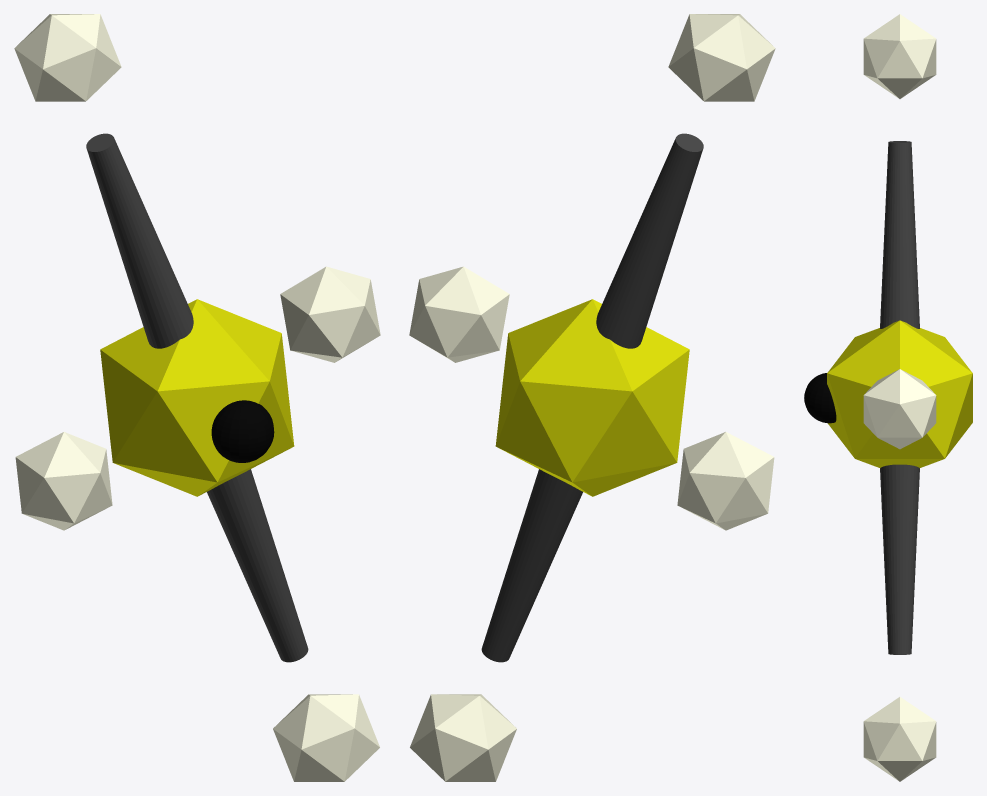
The picture shows the model from 3 angles, left to right: view 1: azimuth 30°, elevation 25°; view 2: azimuth 150°, elevation 25°; view 3: azimuth 270°, elevation 25°; orthographic projection. The views are drawn at different scales.
Visible parts, largest first — view 1: Icosphere, Cylinder, Icosphere.004, Icosphere.003, Icosphere.001, Icosphere.002, Sphere; view 2: Icosphere, Cylinder, Icosphere.004, Icosphere.003, Icosphere.001, Icosphere.002; view 3: Icosphere, Cylinder, Icosphere.001, Icosphere.002, Icosphere.003, Sphere.
Boxes of the visible parts, x1,y1,x2,y2 form: Icosphere: [100, 299, 294, 496]; Cylinder: [86, 133, 308, 662]; Icosphere.004: [15, 432, 112, 530]; Icosphere.003: [280, 266, 380, 362]; Icosphere.001: [14, 14, 121, 101]; Icosphere.002: [273, 694, 379, 781]; Sphere: [211, 400, 274, 462]; Icosphere: [495, 299, 689, 496]; Cylinder: [481, 133, 703, 662]; Icosphere.004: [677, 432, 774, 530]; Icosphere.003: [409, 266, 509, 362]; Icosphere.001: [668, 14, 775, 101]; Icosphere.002: [410, 694, 516, 781]; Icosphere: [827, 320, 972, 467]; Cylinder: [880, 141, 919, 654]; Icosphere.001: [863, 14, 936, 98]; Icosphere.002: [863, 697, 936, 781]; Icosphere.003: [863, 369, 936, 449]; Sphere: [804, 373, 836, 423].
Size of the model in its own units: 36.92 by 84.57 by 19.7.
